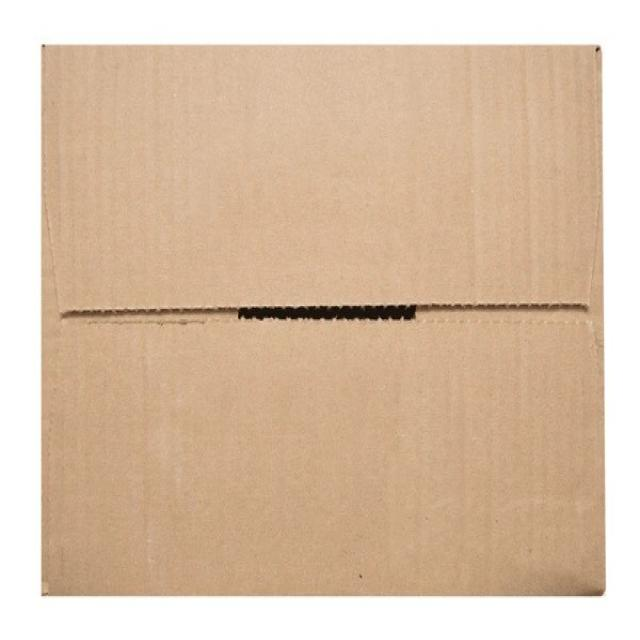Carton: (39, 42, 605, 598)
